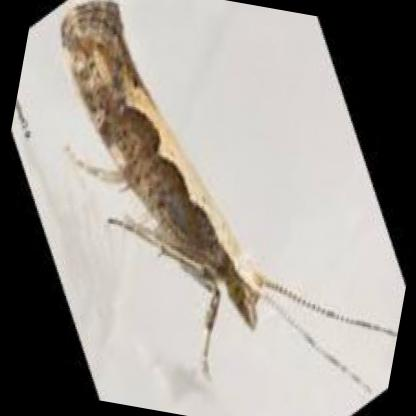plutella: (57, 0, 334, 351)
